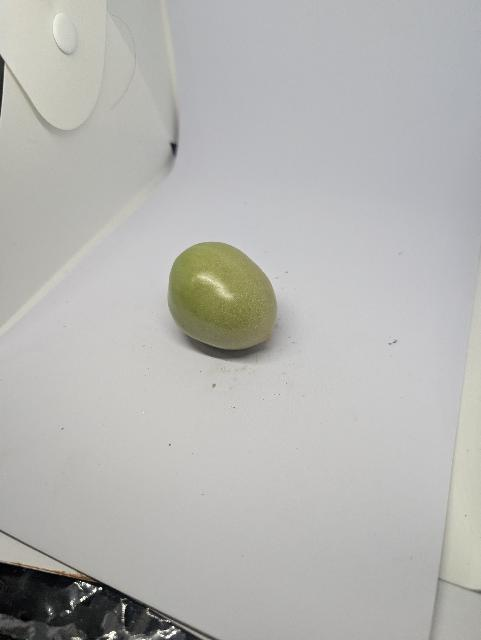green: (157, 227, 298, 375)
